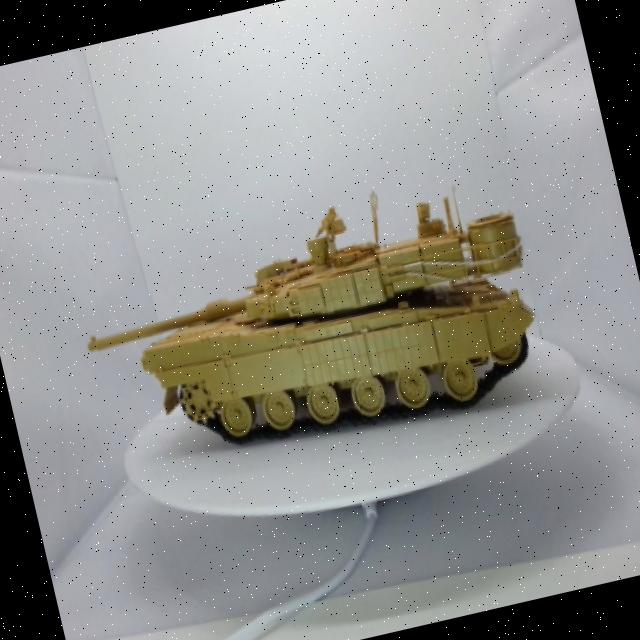korea tank: (49, 144, 568, 506)
